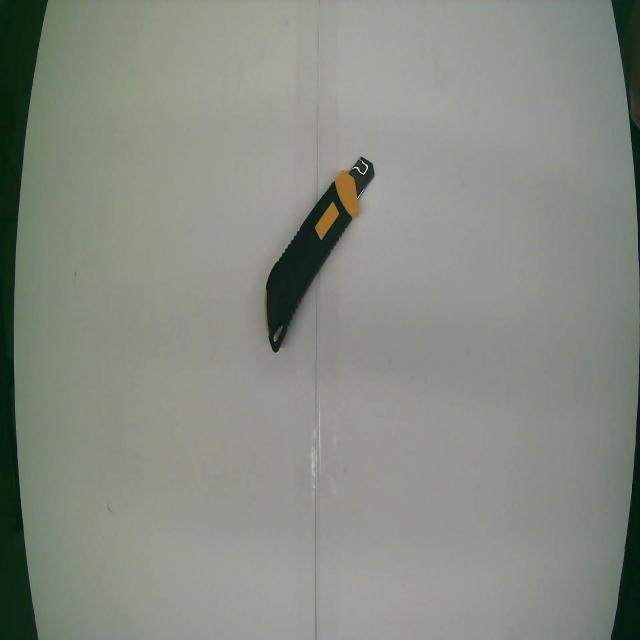estilete: (267, 158, 374, 352)
